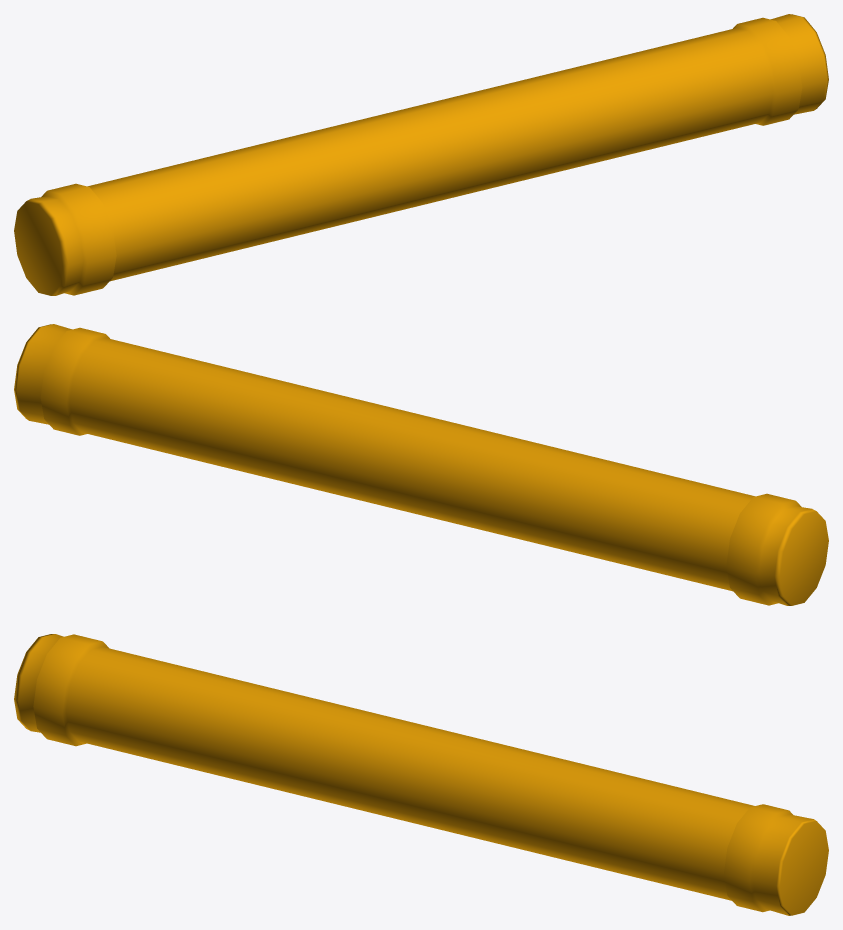
The model's file is Log_04.fbx.
The picture shows the model from 3 angles, top to bottom: view 1: azimuth 30°, elevation 25°; view 2: azimuth 150°, elevation 25°; view 3: azimuth 330°, elevation 25°; orthographic projection.
Parts seen in each view (by area): view 1: Log_04; view 2: Log_04; view 3: Log_04.
Part boxes in pixels (x1=…): Log_04: x1=14, y1=14, x2=828, y2=295; Log_04: x1=14, y1=324, x2=828, y2=605; Log_04: x1=14, y1=634, x2=828, y2=915.
Size of the model in its own units: 146 by 17.84 by 17.84.
